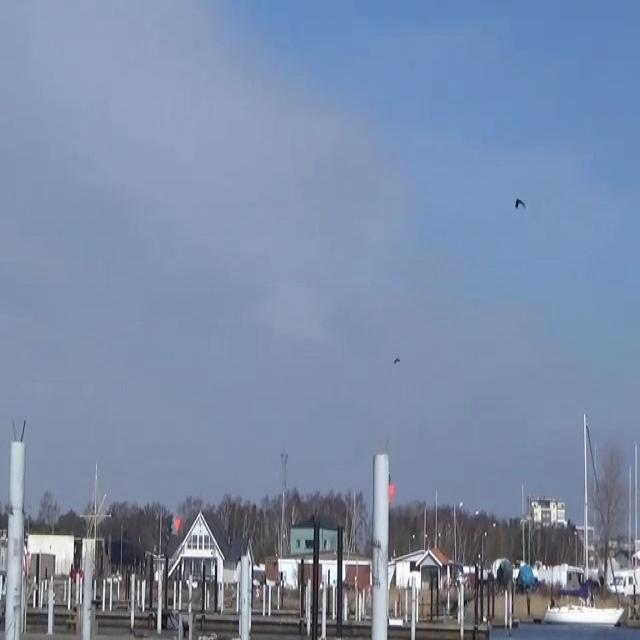bird: (510, 192, 529, 214), (390, 350, 405, 370)
